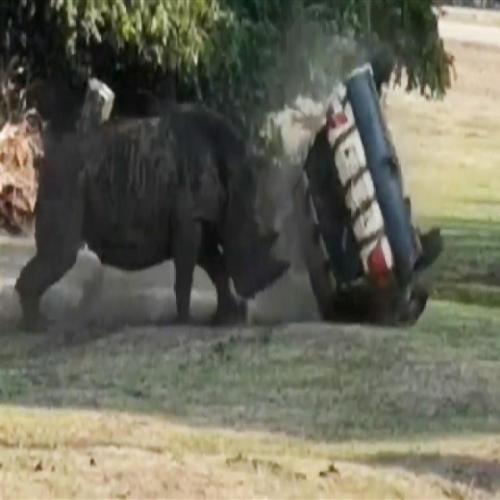rhino-endangered: (16, 98, 292, 331)
